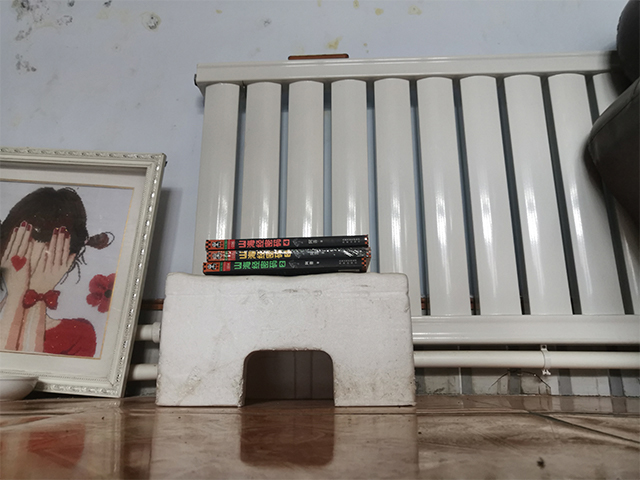book: (201, 231, 374, 276)
